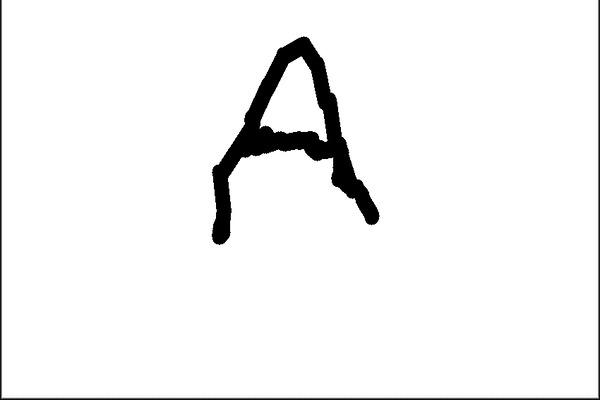A: (206, 32, 380, 247)
